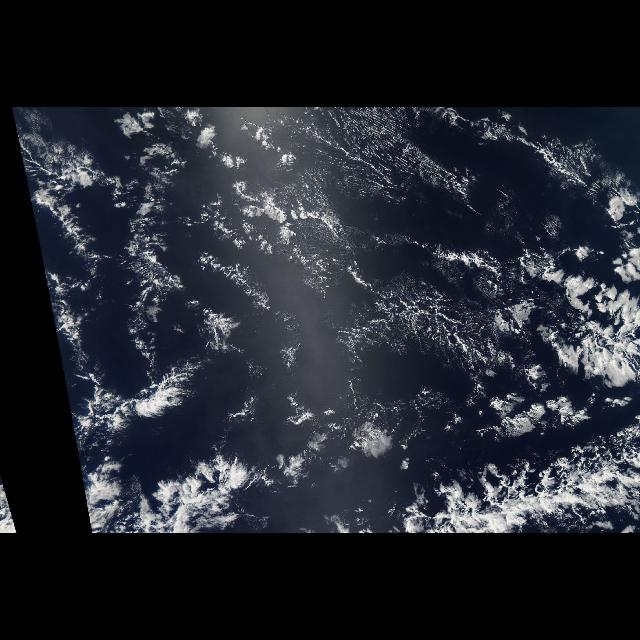Fish: (374, 409, 640, 533)
